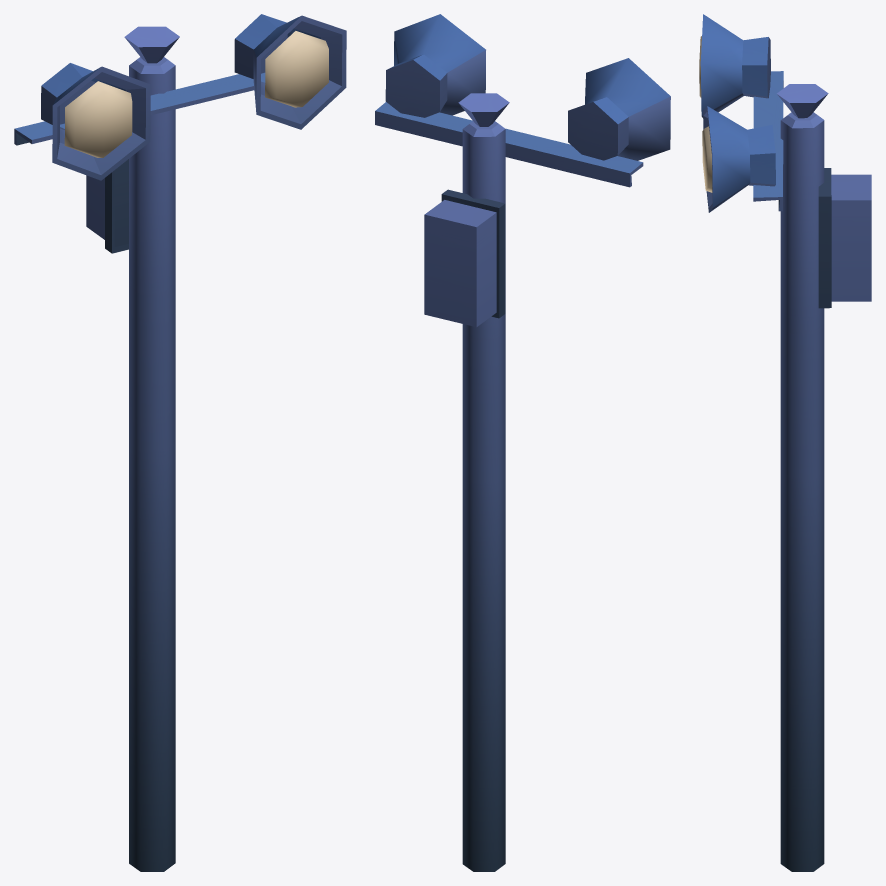
The model's file is MSH_PosteLuz_2.fbx.
The picture shows the model from 3 angles, left to right: view 1: azimuth 30°, elevation 25°; view 2: azimuth 150°, elevation 25°; view 3: azimuth 270°, elevation 25°; orthographic projection. The views are drawn at different scales.
Parts seen in each view (by area): view 1: MSH_PosteLuz_1, MSH_PosteLuz_1_luces; view 2: MSH_PosteLuz_1; view 3: MSH_PosteLuz_1, MSH_PosteLuz_1_luces.
Part boxes in pixels (x1,y1,x2,y2): MSH_PosteLuz_1: (14,14,346,871); MSH_PosteLuz_1_luces: (64,31,328,157); MSH_PosteLuz_1: (375,14,670,871); MSH_PosteLuz_1: (700,14,871,871); MSH_PosteLuz_1_luces: (699,36,712,192).
Size of the model in its own units: 82.32 by 228 by 44.42.
